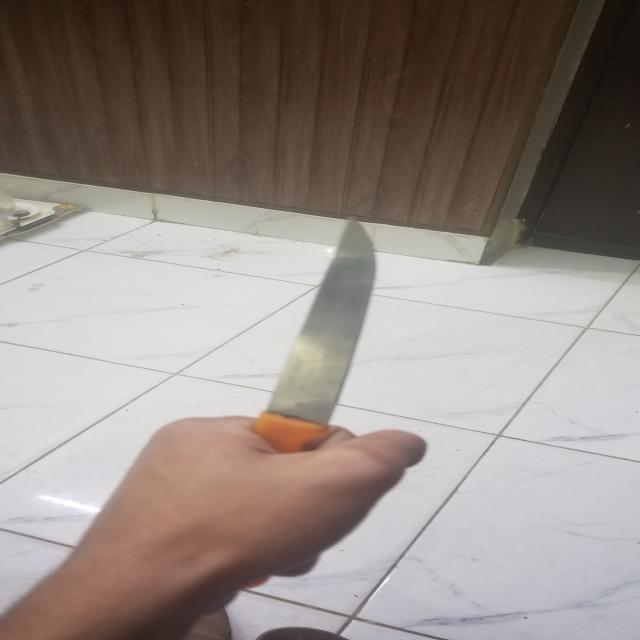Knife: (240, 198, 458, 504)
